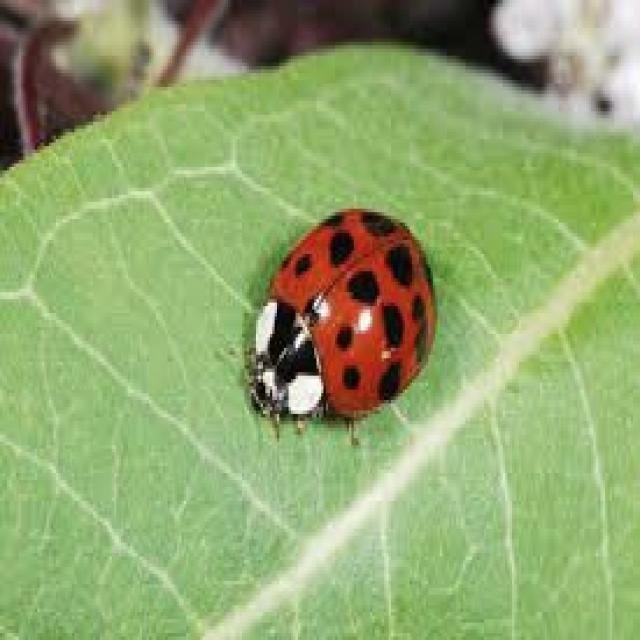ladybug: (251, 209, 435, 424)
